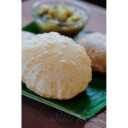poori: (22, 33, 91, 97), (78, 31, 106, 72)
